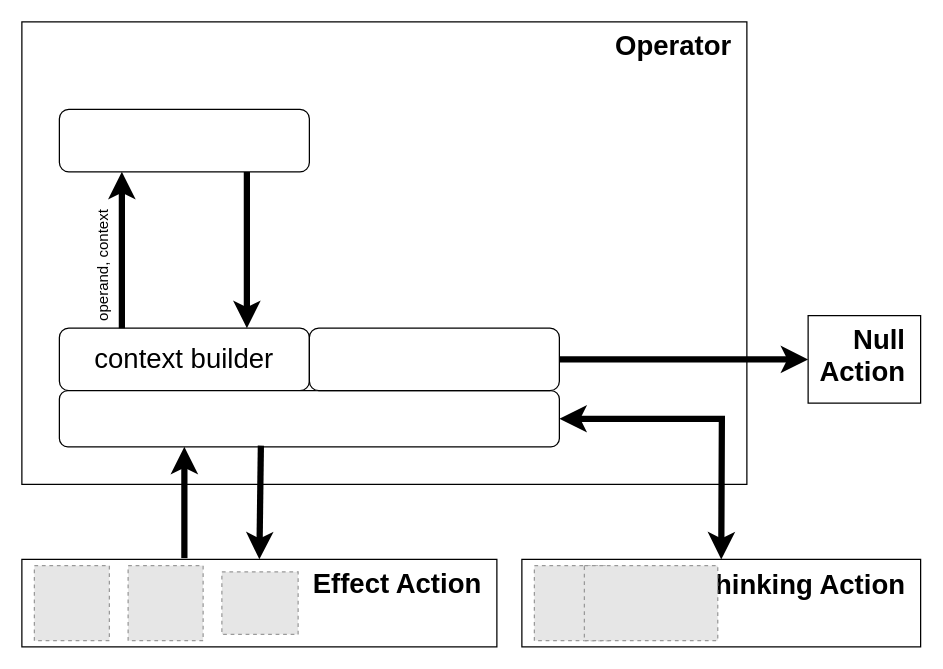
Image size: 943x669. Some labels were removed from this diagram. Grey dashed boxes stand in for pictures. The shapes that lost their labels are listed below. From the top down, each one's centre as x and y in pixels, then its label:
At point 183,140: "policy controller".
At point 433,359: "action directory".
At point 308,418: "execution loop".
